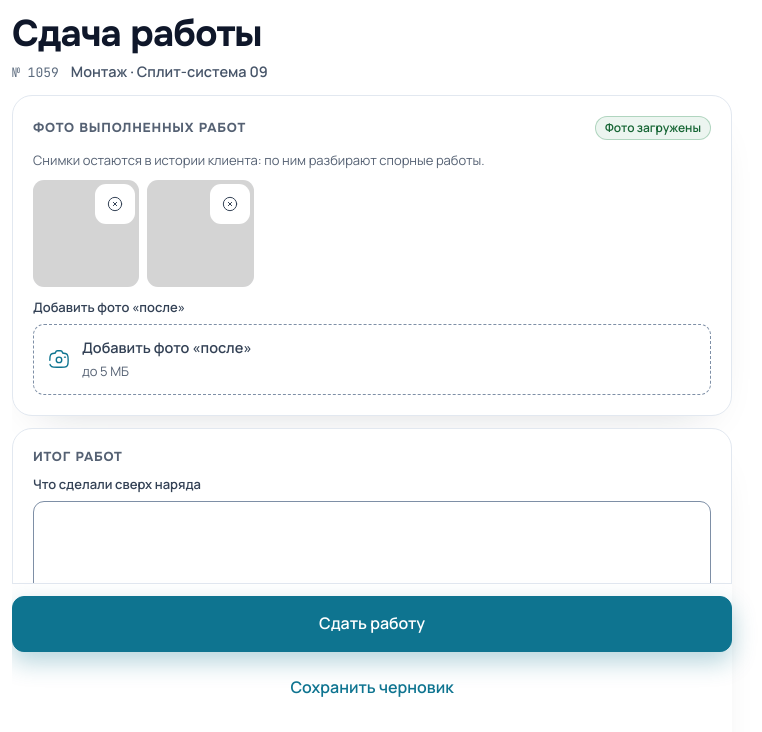
Test: Сдача работы › черновик пишет итог и не трогает статус
The width and height of the screenshot is (762, 732).
Click the button "Сохранить черновик": (372, 688) 12,660 -> 732,716
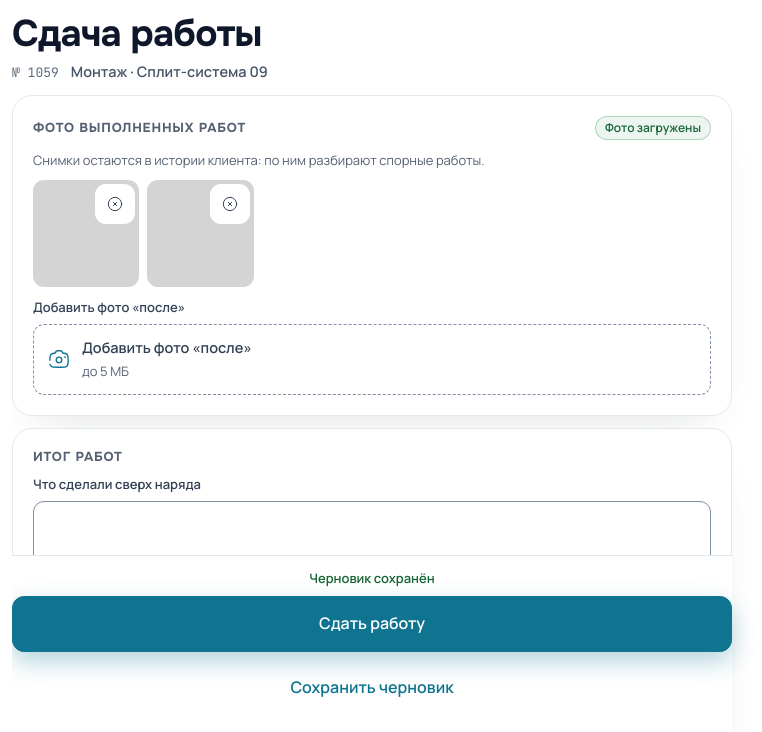
Expected: the text "Черновик сохранён" is shown, 309,569 -> 435,587
